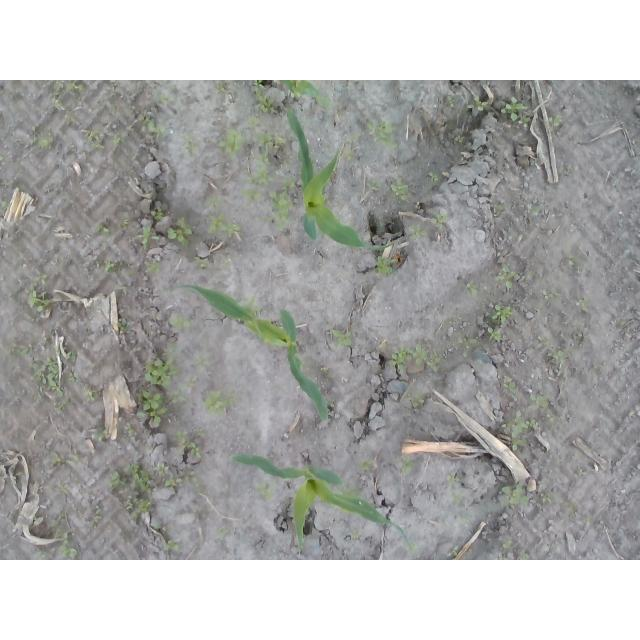Maize: (175, 283, 330, 423), (229, 450, 414, 554), (285, 109, 396, 252), (276, 80, 333, 110)
Weeds: (135, 355, 194, 425), (32, 350, 79, 403), (110, 460, 155, 513), (254, 127, 287, 188), (392, 342, 449, 374), (502, 408, 541, 452), (268, 175, 296, 229), (48, 511, 80, 558), (200, 385, 241, 416), (484, 301, 512, 343), (499, 96, 531, 132), (367, 119, 402, 151), (25, 272, 51, 313), (168, 208, 193, 248), (175, 427, 208, 457), (495, 262, 530, 290), (222, 126, 247, 162), (388, 174, 412, 211), (207, 214, 241, 239), (136, 111, 168, 137), (499, 481, 530, 507), (252, 80, 275, 114), (153, 461, 183, 487), (179, 470, 205, 496), (82, 126, 106, 152), (96, 255, 129, 273), (50, 448, 82, 466), (341, 131, 360, 161), (458, 334, 481, 358), (31, 126, 54, 150), (142, 223, 161, 250), (374, 255, 399, 275), (180, 130, 196, 160), (254, 479, 279, 498), (51, 81, 66, 112), (527, 392, 554, 409), (331, 328, 353, 348), (466, 94, 490, 112), (9, 338, 33, 356), (399, 453, 417, 475), (63, 111, 82, 131), (65, 80, 88, 96), (406, 391, 425, 410), (141, 255, 161, 273), (426, 167, 444, 187), (354, 457, 379, 471), (160, 538, 185, 552), (540, 490, 560, 507), (366, 176, 387, 192), (548, 113, 566, 131), (408, 223, 426, 241), (189, 354, 209, 370), (463, 282, 482, 298), (95, 221, 112, 238), (575, 296, 593, 312), (239, 188, 261, 201), (89, 510, 104, 529), (205, 193, 224, 208), (191, 255, 210, 270), (501, 380, 521, 394), (53, 399, 73, 413), (169, 317, 192, 329), (343, 478, 359, 495), (244, 294, 260, 311), (450, 490, 466, 506), (499, 534, 513, 552), (111, 131, 129, 145), (124, 422, 137, 441), (548, 347, 564, 362), (432, 210, 448, 225), (83, 385, 97, 402), (150, 205, 165, 220), (543, 288, 561, 300), (447, 472, 462, 486), (116, 316, 129, 332), (246, 115, 262, 128), (91, 430, 108, 442), (167, 343, 185, 354), (58, 481, 71, 496), (119, 214, 130, 231), (529, 205, 543, 218), (518, 548, 531, 561), (566, 255, 578, 269), (447, 94, 460, 106), (34, 547, 47, 559), (215, 82, 227, 95), (542, 335, 553, 348), (350, 530, 362, 541), (159, 94, 170, 106), (495, 203, 513, 210), (463, 111, 474, 122), (545, 413, 556, 424), (454, 135, 466, 145), (407, 544, 417, 556), (0, 195, 8, 209), (215, 527, 225, 538), (0, 149, 8, 162), (617, 318, 627, 328), (577, 468, 588, 477), (320, 368, 330, 376)
